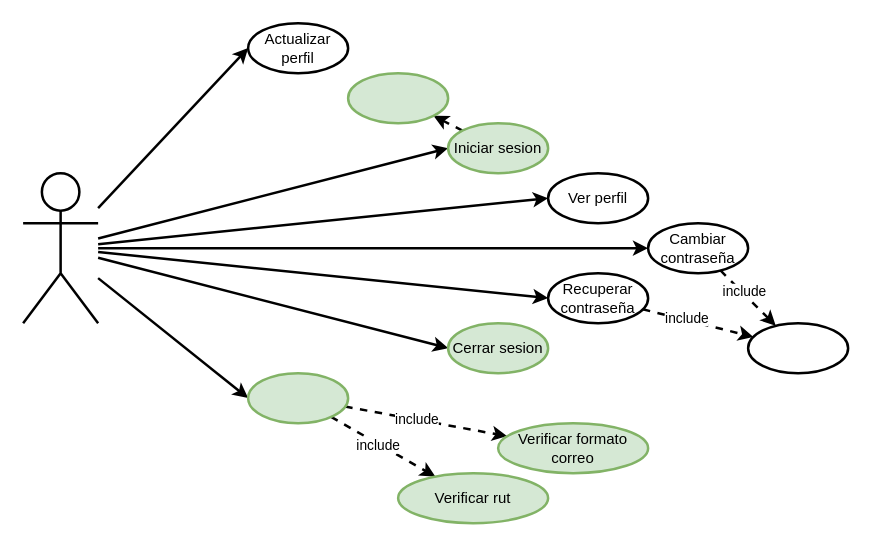
This 870x545 diagram has some shape labels left out. Here are the shapes that lost their labels. From the top down, the centre of each, then its label:
At pixel 397 97: "Verificar estado".
At pixel 60 247: "user".
At pixel 797 347: "Enviar correo".
At pixel 297 397: "Crear cuenta".
